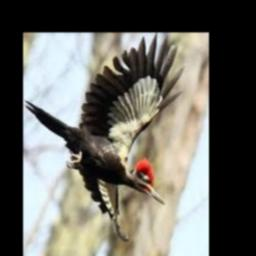Woodpecker: (25, 32, 184, 240)
